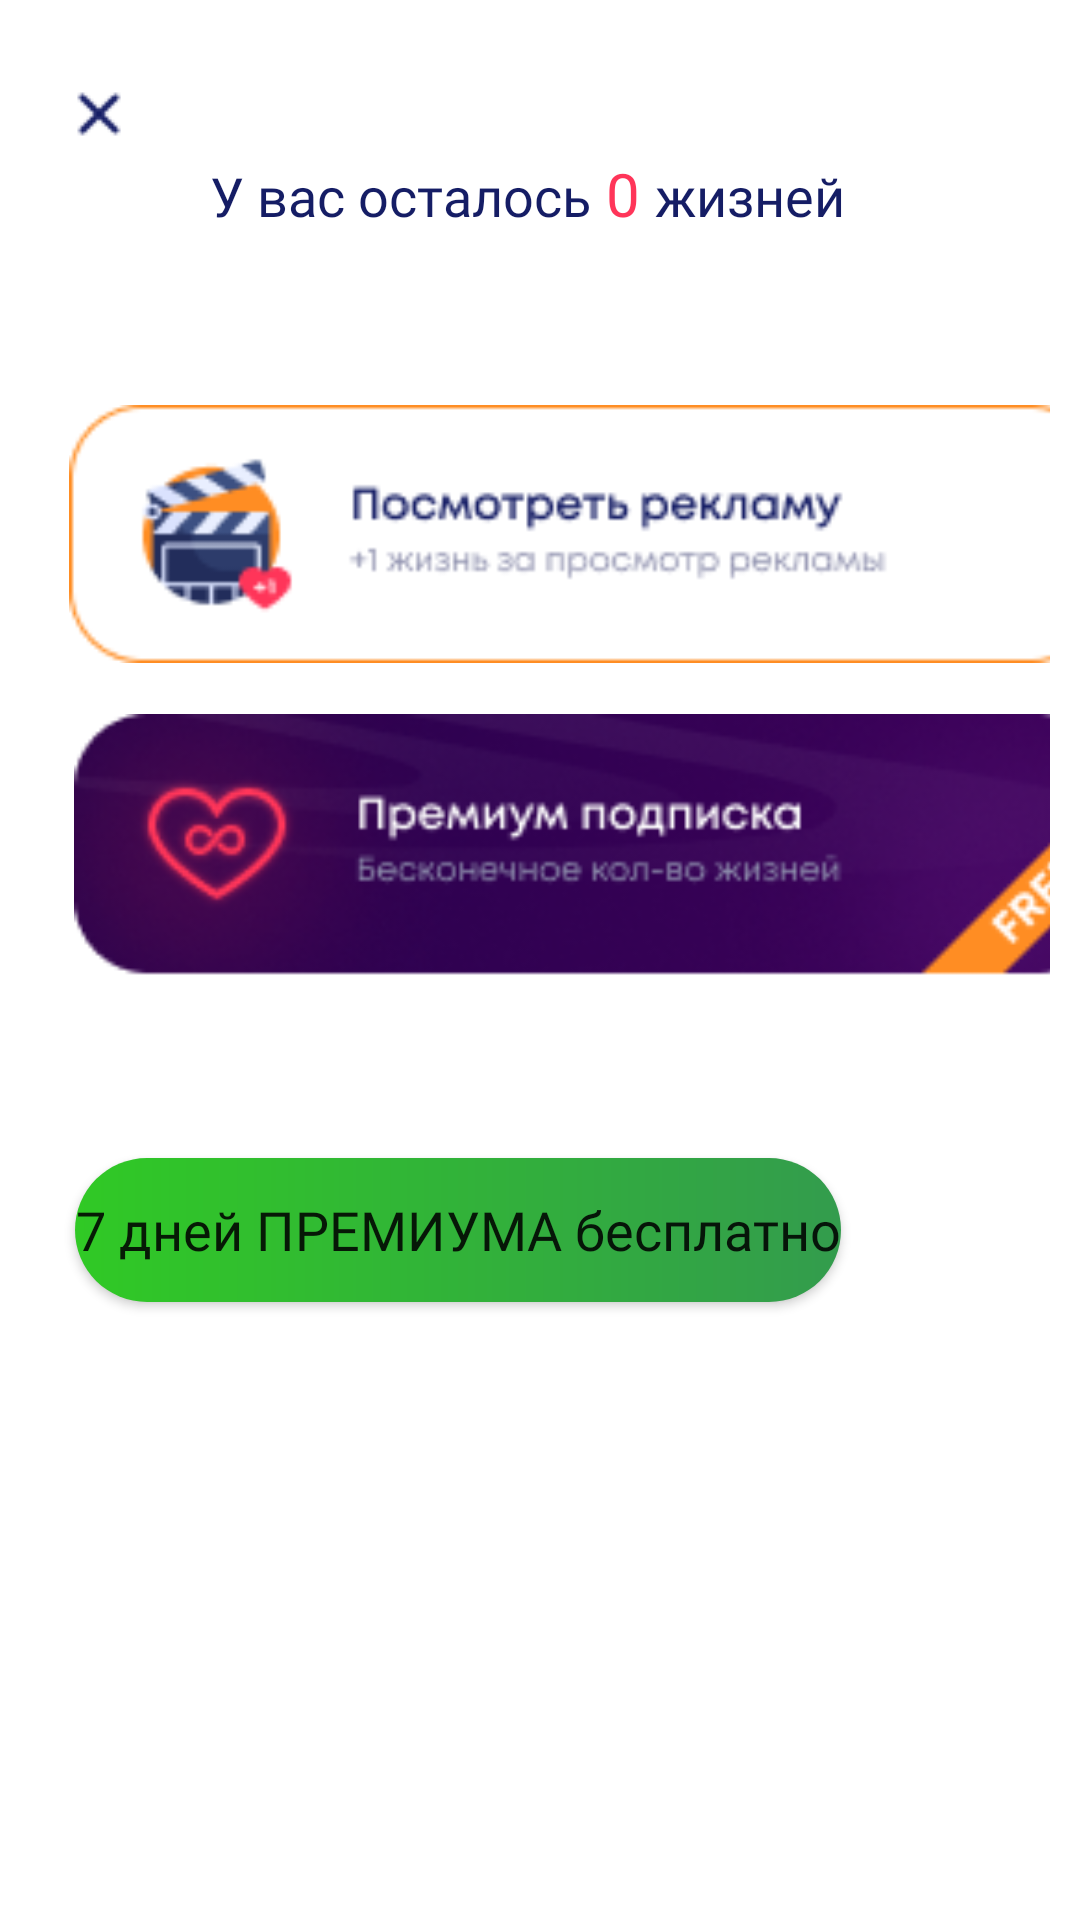

Icons on this 1080 × 1920 Android screen, each with its box as bbox(x1, y1, x2, y2):
back: bbox(77, 92, 121, 136)
